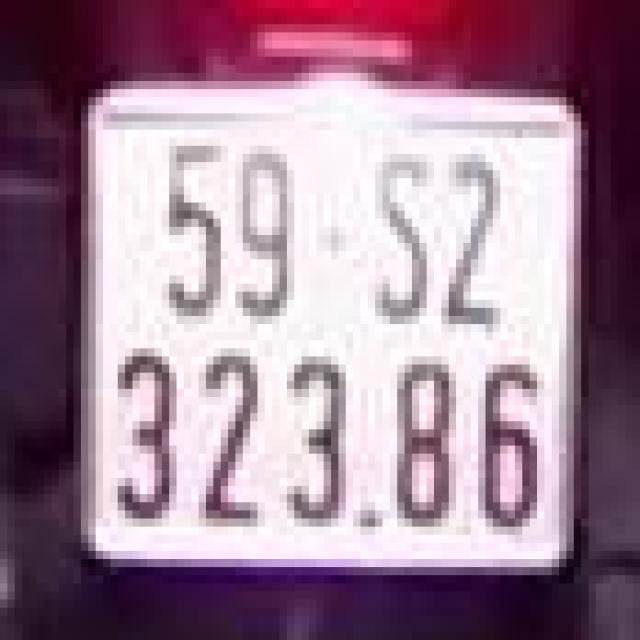2: (180, 336, 261, 539), (438, 138, 504, 340)
3: (276, 344, 357, 539), (110, 332, 176, 527)
5: (155, 130, 228, 324)
6: (478, 348, 552, 543)
8: (386, 348, 460, 535)
9: (224, 138, 298, 332)
S: (364, 142, 438, 336)
